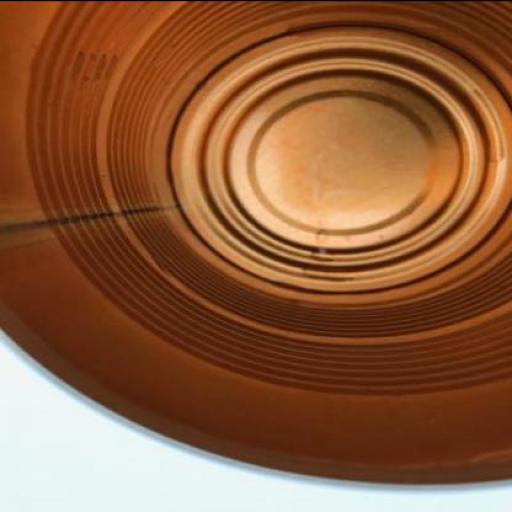metal: (0, 1, 511, 491)
